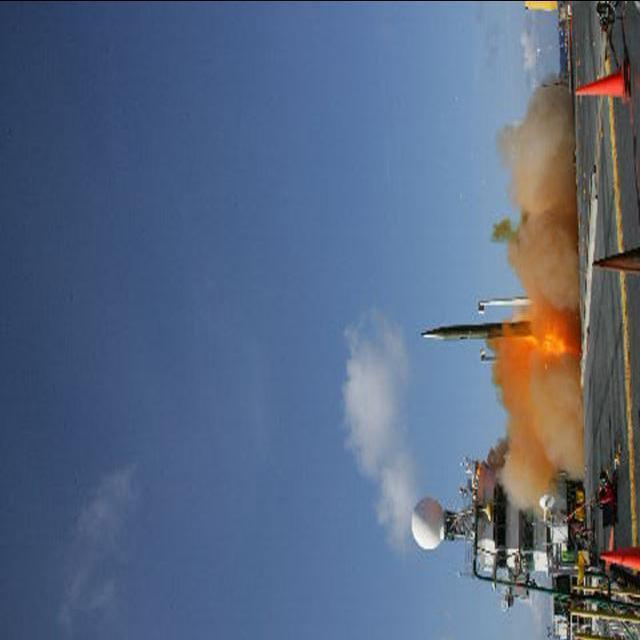missile: (418, 316, 556, 352)
